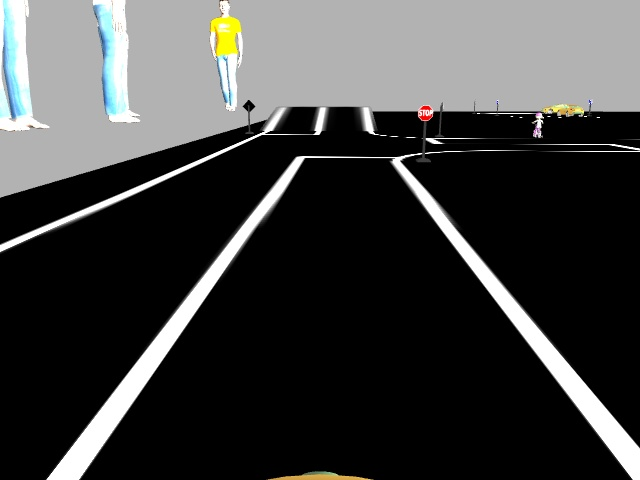Pedestrian: (531, 113, 548, 139)
Stop: (417, 103, 434, 122)
